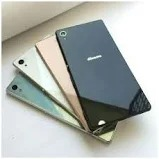sony: (54, 19, 150, 132)
